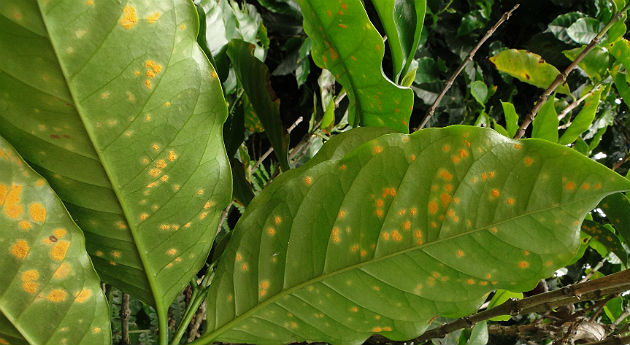roya: (56, 9, 231, 297), (263, 166, 577, 299)
